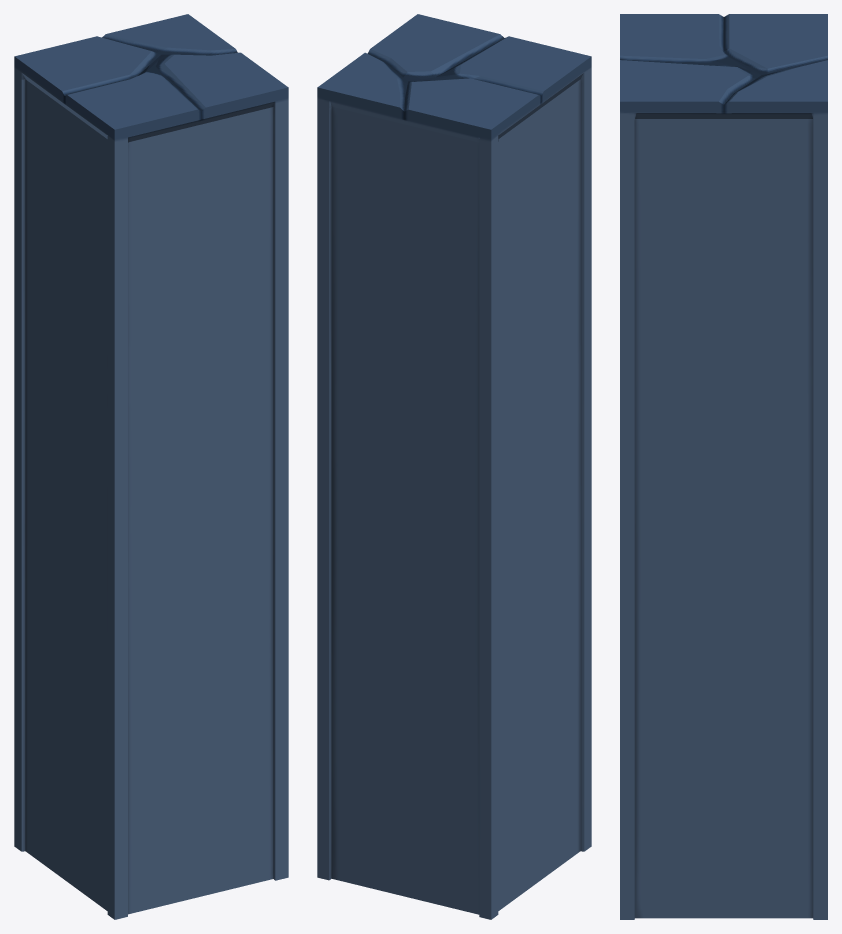
The model's file is WallV2_20220505.obj.
3 renders of one model, left to right at view 1: azimuth 30°, elevation 25°; view 2: azimuth 150°, elevation 25°; view 3: azimuth 270°, elevation 25°, orthographic. The views are drawn at different scales.
Visible parts, largest first — view 1: pCube1; view 2: pCube1; view 3: pCube1.
Part boxes in pixels (left/top/right/bottom): pCube1: left=14, top=14, right=288, bottom=919; pCube1: left=317, top=14, right=591, bottom=919; pCube1: left=620, top=14, right=827, bottom=919.
Size of the model in its own units: 3 by 13.04 by 3.
